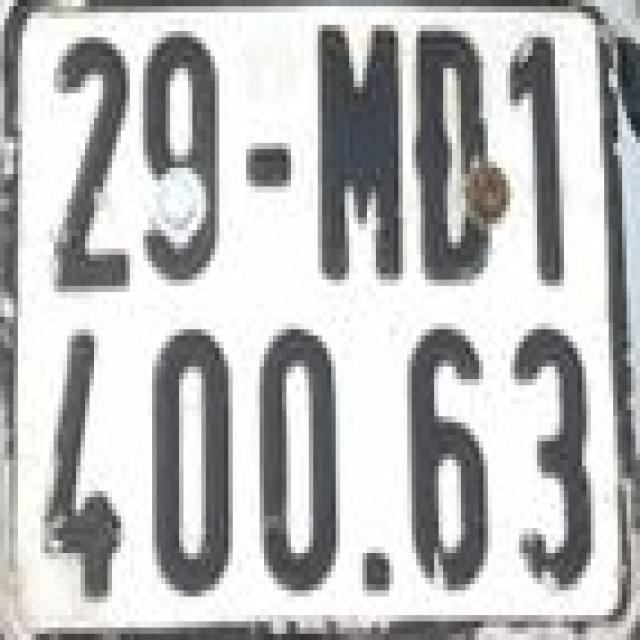0: (143, 323, 237, 597), (255, 317, 345, 590)
1: (506, 31, 573, 286)
2: (45, 31, 134, 292)
3: (506, 323, 595, 584)
4: (40, 323, 130, 603)
6: (403, 323, 492, 590)
9: (139, 24, 224, 280)
D: (410, 9, 499, 289)
M: (316, 12, 410, 286)
